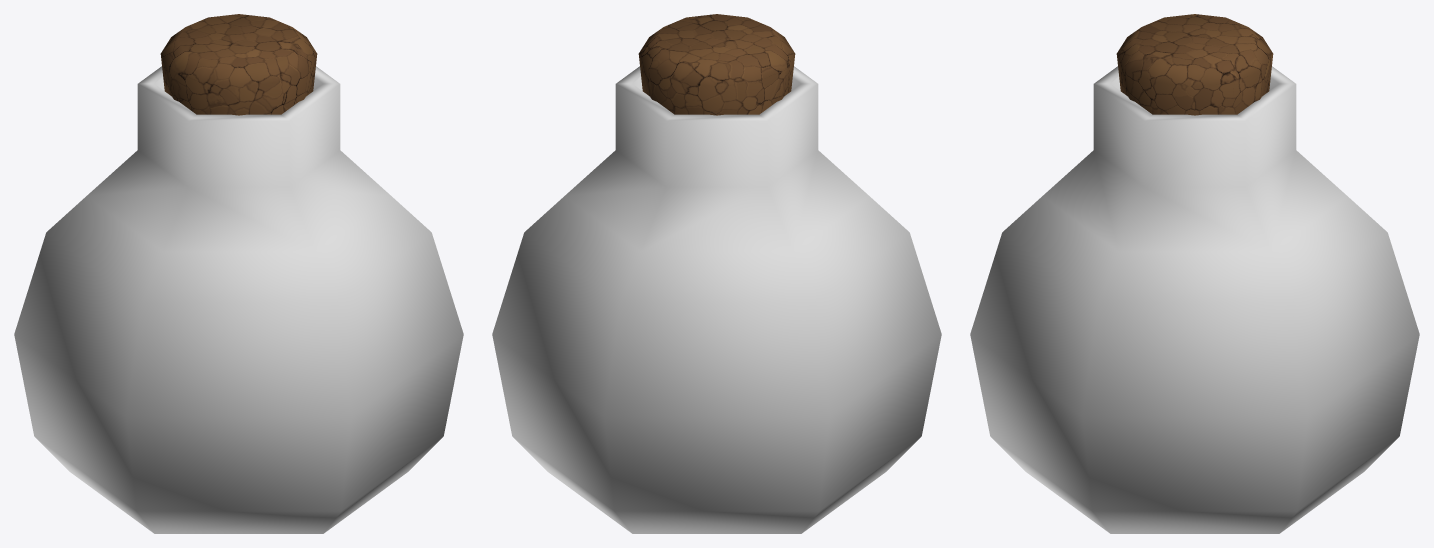
The model's file is BottleThick.fbx.
The picture shows the model from 3 angles, left to right: view 1: azimuth 30°, elevation 25°; view 2: azimuth 150°, elevation 25°; view 3: azimuth 270°, elevation 25°; orthographic projection.
Parts seen in each view (by area): view 1: GlassThick, Cork; view 2: GlassThick, Cork; view 3: GlassThick, Cork.
Boxes of the visible parts, left/top/right/bottom form: GlassThick: left=14, top=66, right=463, bottom=533; Cork: left=160, top=14, right=317, bottom=115; GlassThick: left=492, top=66, right=941, bottom=533; Cork: left=638, top=14, right=795, bottom=115; GlassThick: left=970, top=66, right=1419, bottom=533; Cork: left=1116, top=14, right=1273, bottom=115.
Size of the model in its own units: 231 by 282 by 266.
